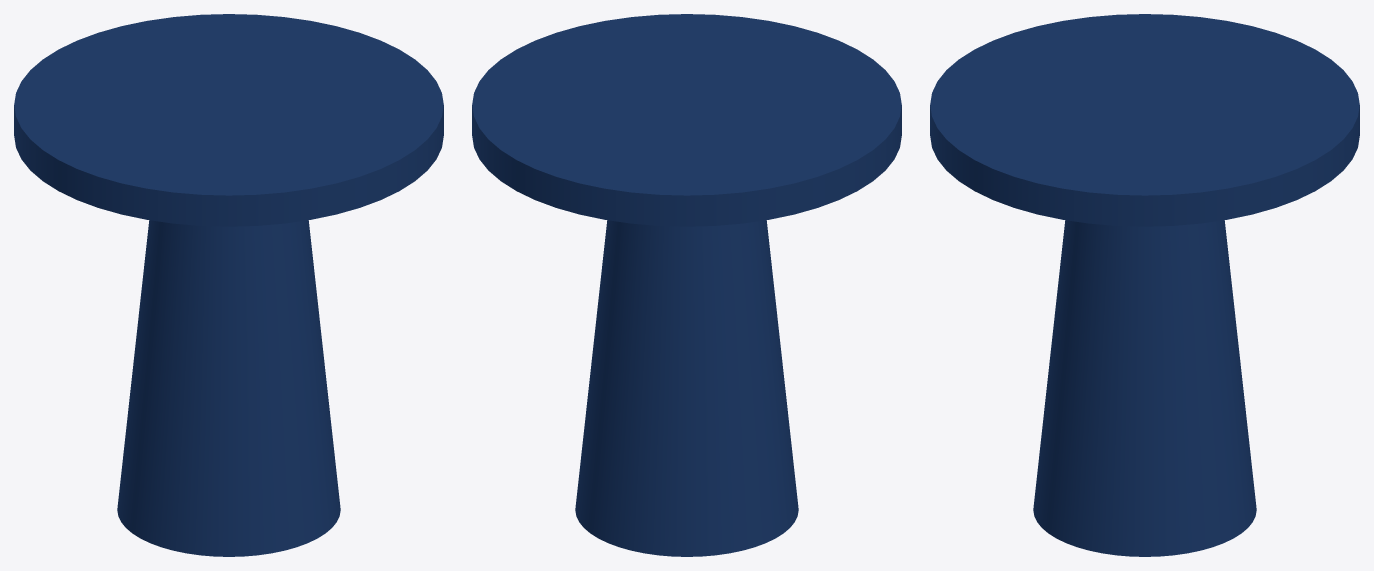
The model's file is ref06_20.glb.
3 renders of one model, left to right at view 1: azimuth 30°, elevation 25°; view 2: azimuth 150°, elevation 25°; view 3: azimuth 270°, elevation 25°, orthographic.
Visible parts, largest first — view 1: ref06_20; view 2: ref06_20; view 3: ref06_20.
Part boxes in pixels (box(x1,y1,x2,y2)): ref06_20: box(14, 14, 443, 556); ref06_20: box(472, 14, 901, 556); ref06_20: box(930, 14, 1359, 556).
Size of the model in its own units: 0.5 by 0.52 by 0.5.
